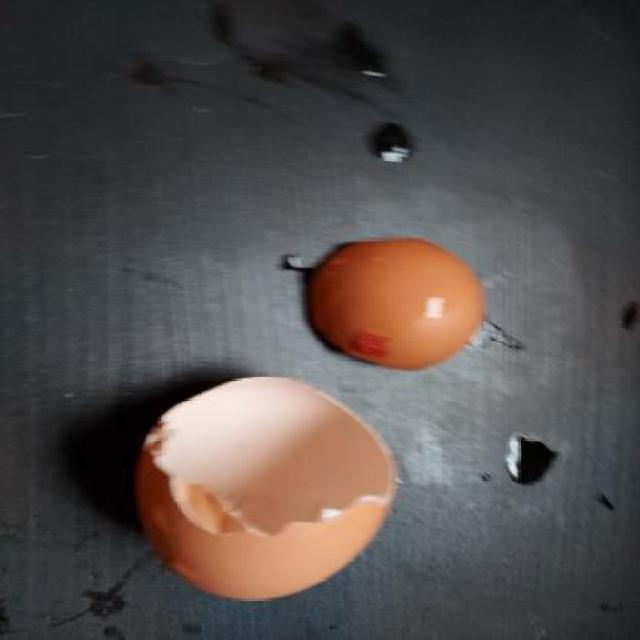biodegradable: (126, 368, 402, 602), (308, 238, 492, 368)
